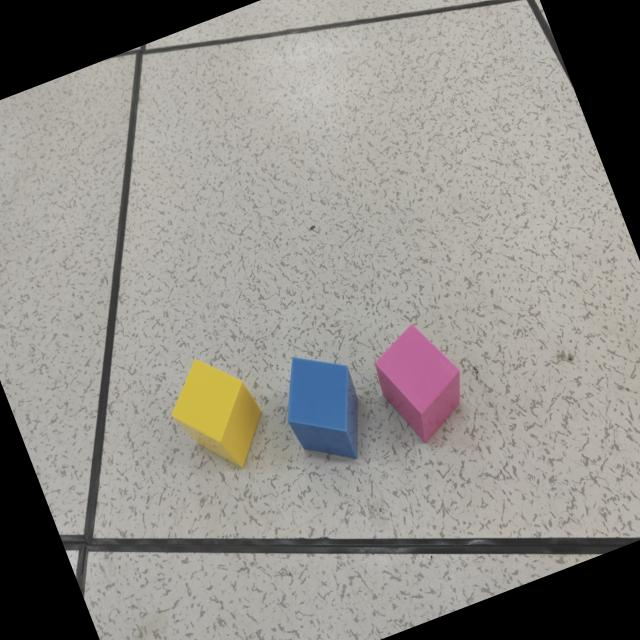blue: (288, 357, 359, 461)
pink: (376, 325, 462, 442)
yellow: (171, 360, 264, 469)
